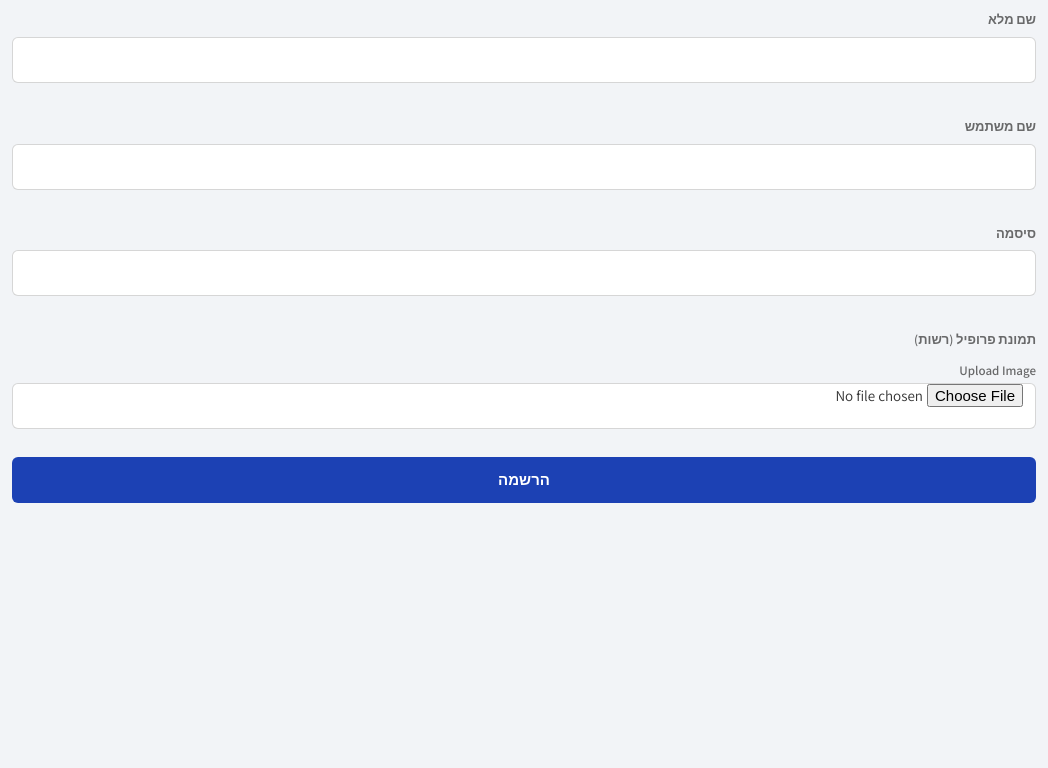
Scenario: the client-side guards › no full name — names the missing field and sends no request
Type "shopper1" into the field labelled "שם משתמש" at x=524, y=167, box [12,144,1036,190]
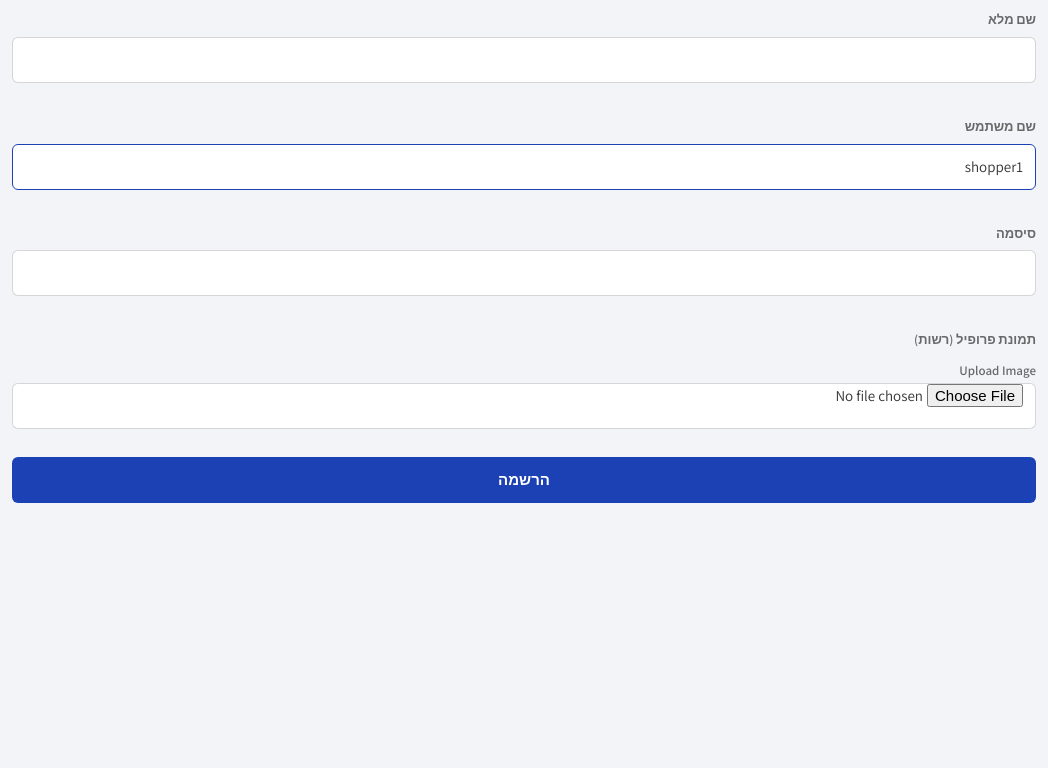
Type "Passw0rd!" into the password field labelled "סיסמה" at x=524, y=273, box [12,250,1036,296]
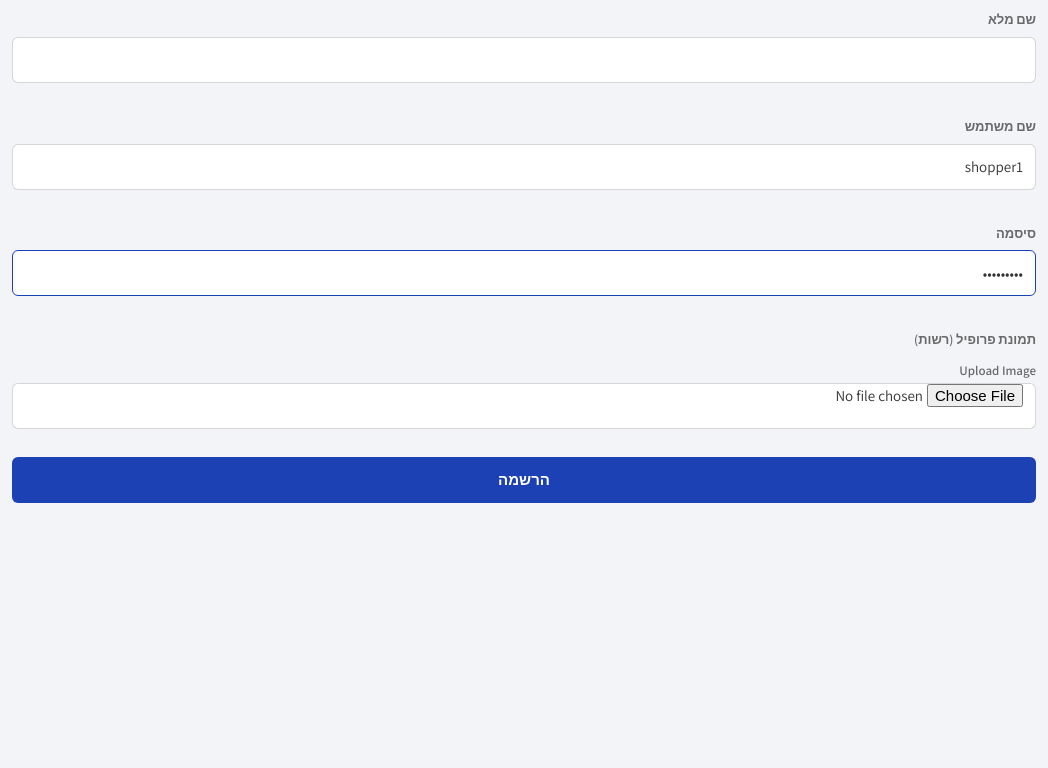
Click the button "הרשמה" at x=524, y=480, box [12,457,1036,503]
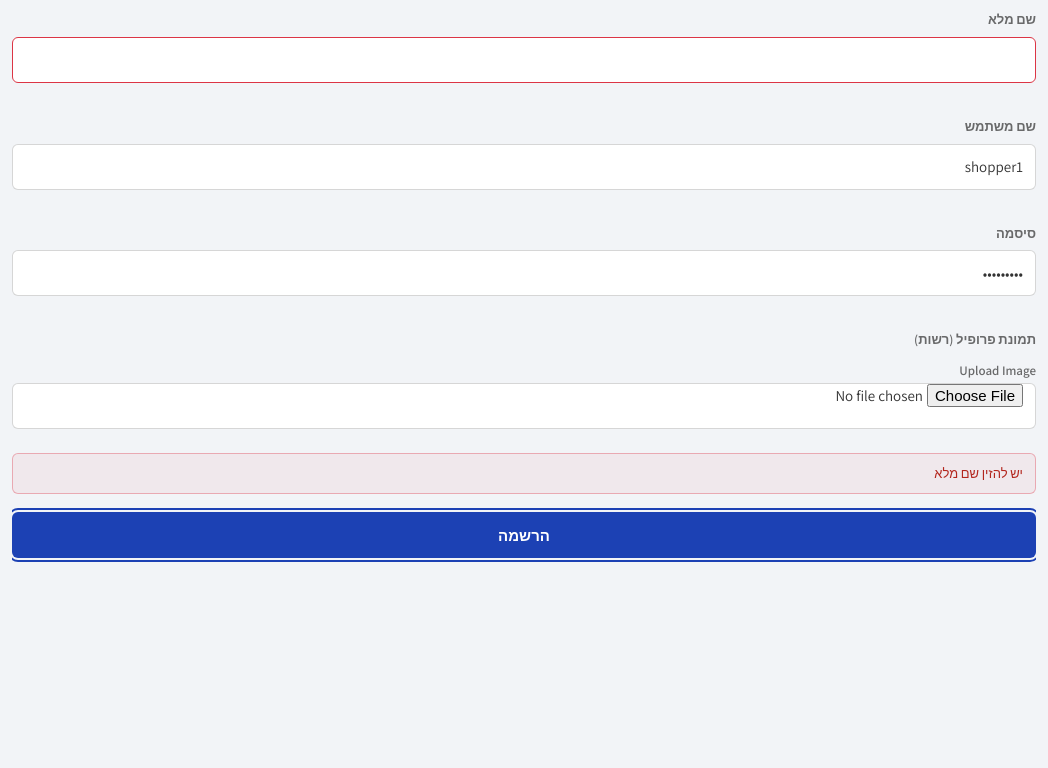
Expected: the message reads "יש להזין שם מלא", [934,465,1023,482]
